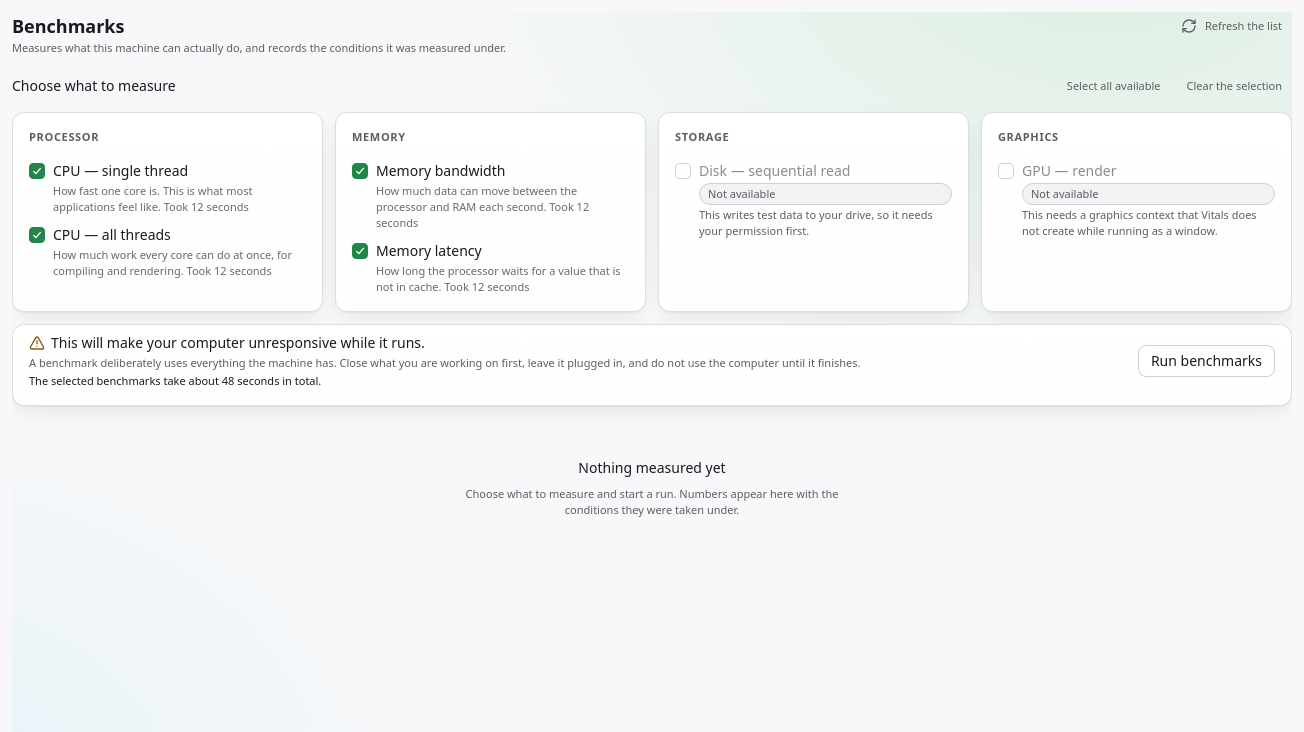
Scenario: BenchmarksScreen › before starting › recomputes the estimate as the selection changes
Check: the heading "Benchmarks" is shown, box left=12, top=14, right=124, bottom=38
Click the checkbox named "CPU — all threads" next to "CPU — all threads".
click(37, 235)  # box left=29, top=227, right=45, bottom=243
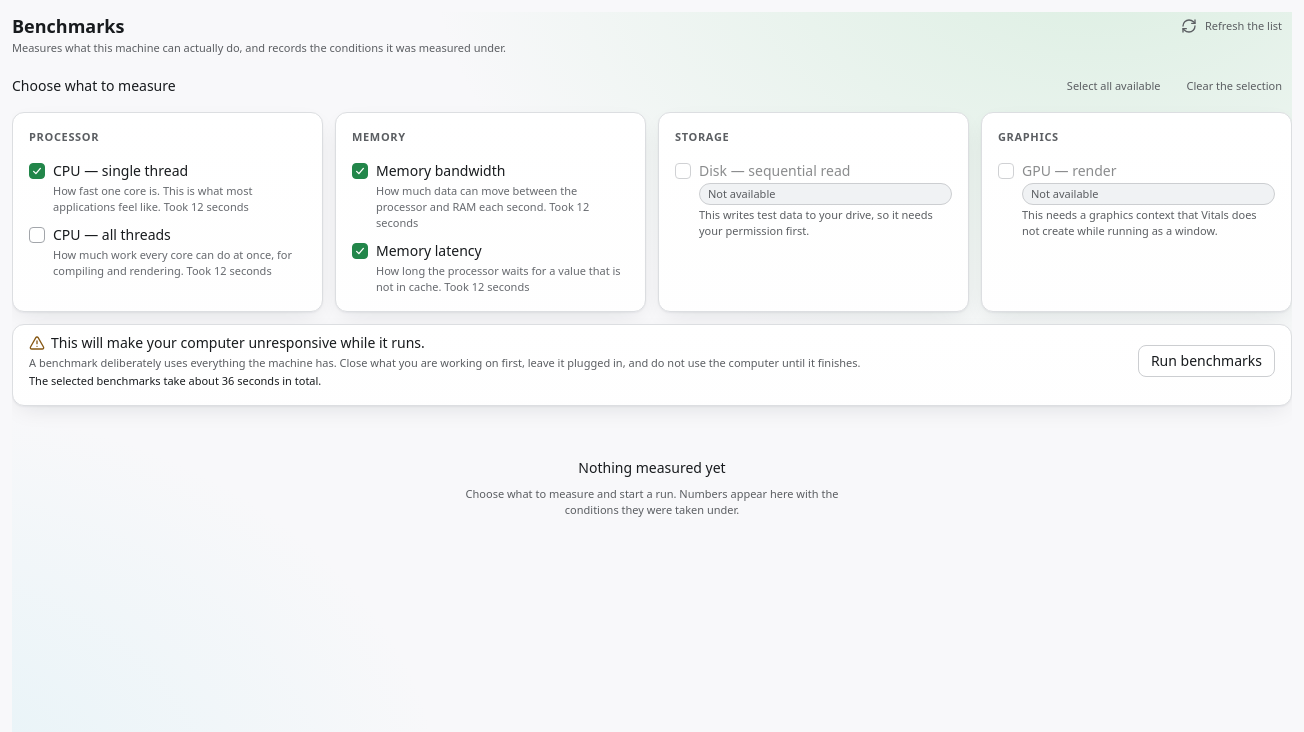
Check: the text "The selected benchmarks take about 36 seconds in total." is shown, box left=29, top=373, right=321, bottom=388
